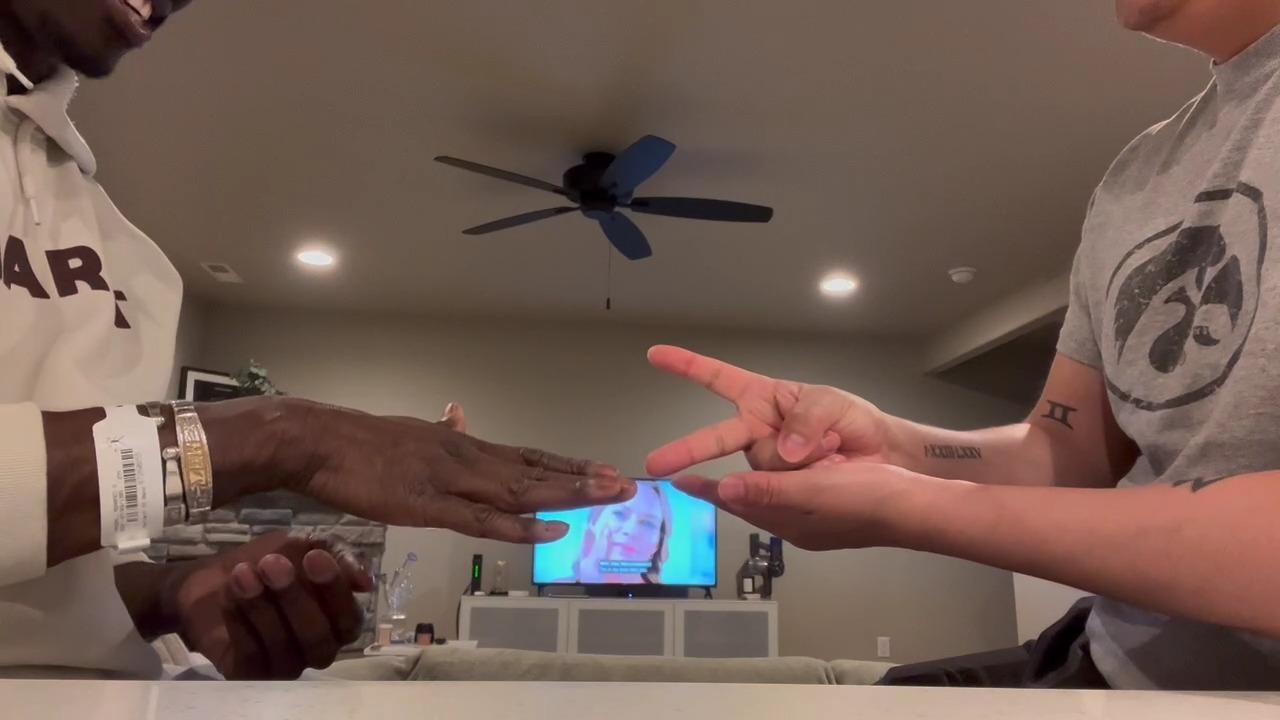Paper: (257, 392, 636, 552)
Scissors: (643, 343, 891, 486)
